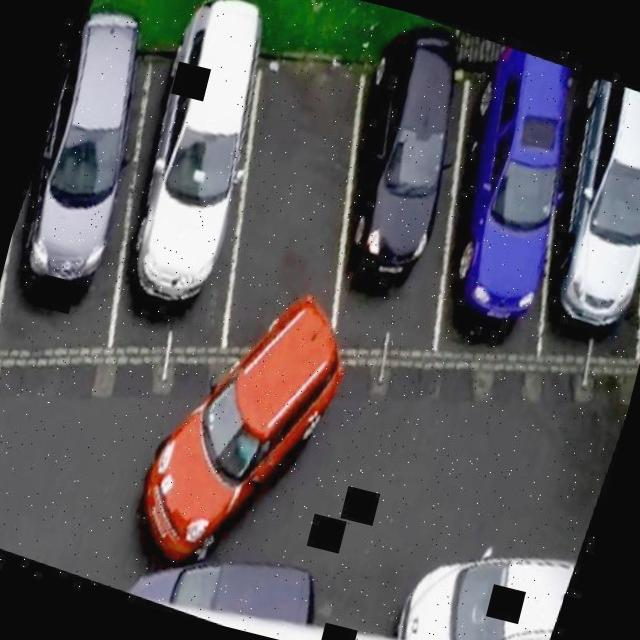car: (62, 9, 310, 370), (280, 28, 518, 401), (375, 32, 614, 396), (0, 12, 196, 368), (482, 66, 640, 408)
free: (174, 22, 416, 383)
